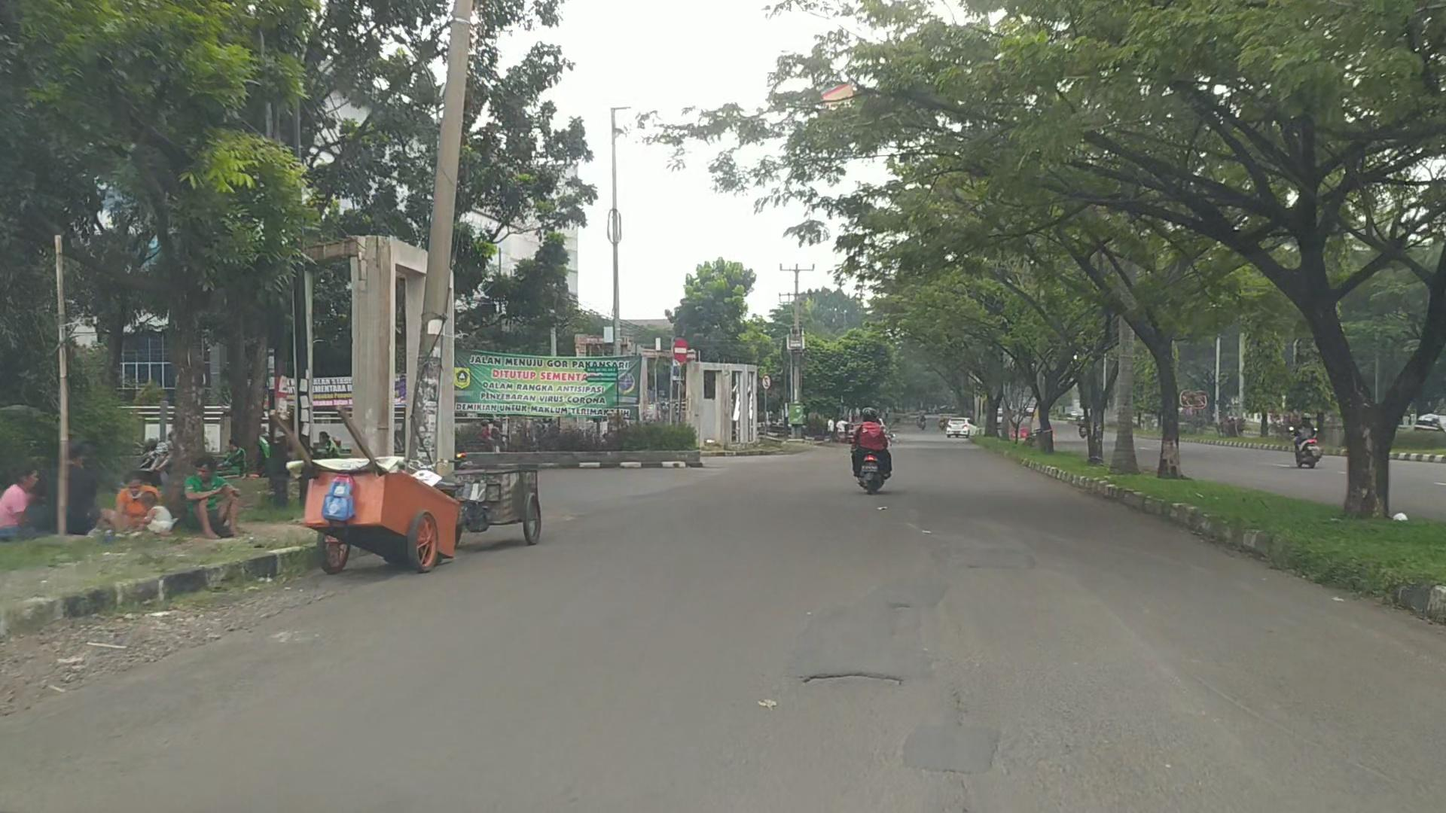pothole: (801, 670, 905, 688)
